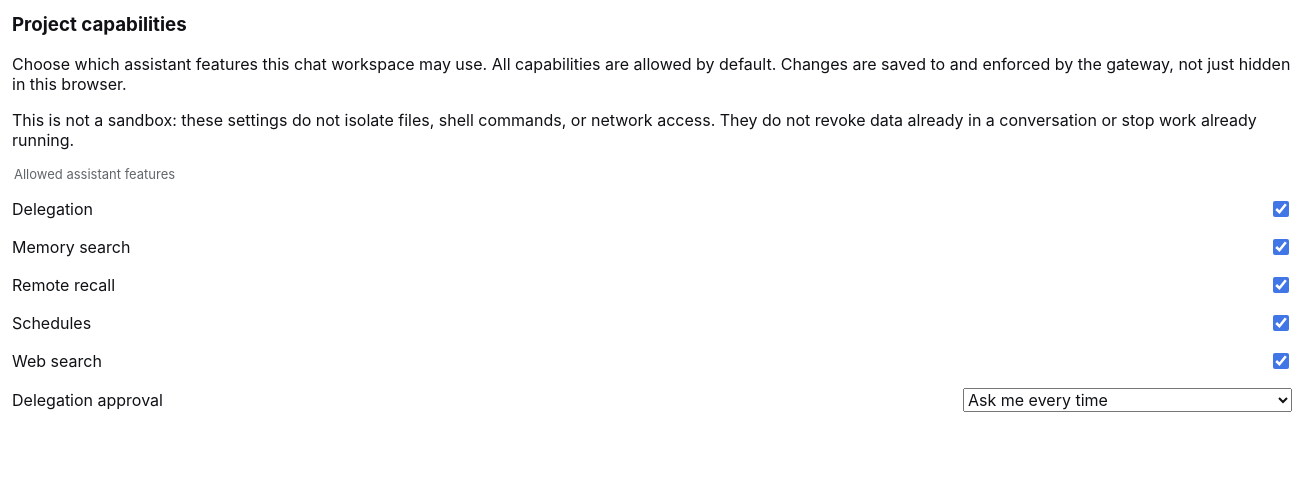
Test: saves the delegation approval policy, with its warning, once the gateway confirms it
The width and height of the screenshot is (1304, 497).
Select "Never ask" in the dropdown labelled "Delegation approval" at [1128, 400], box x1=963 y1=388 x2=1292 y2=412
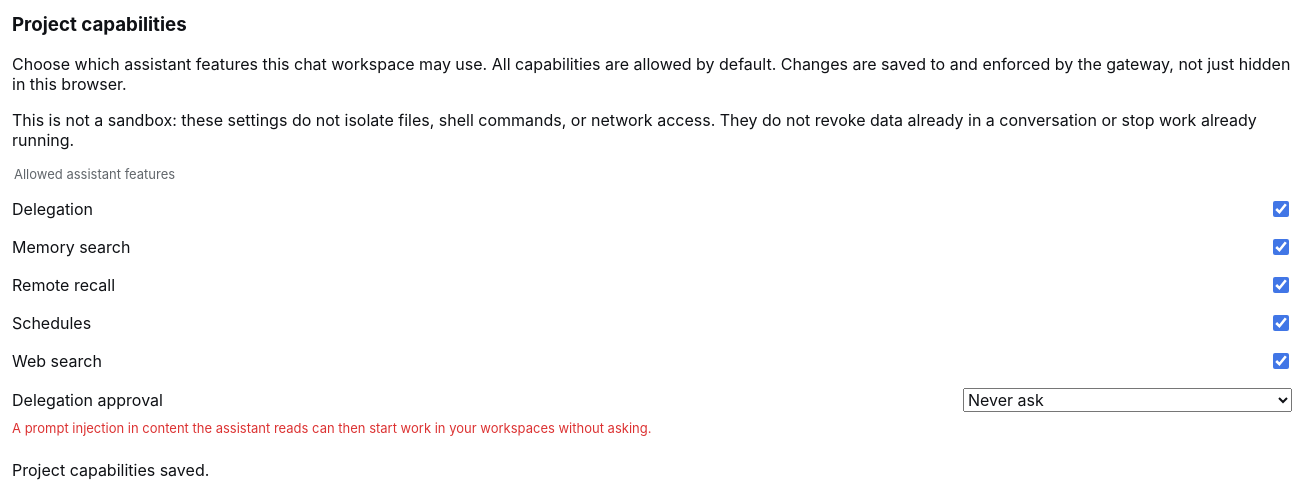
Expected: the text "A prompt injection in content the assistant reads" is shown, x1=12 y1=420 x2=652 y2=436
